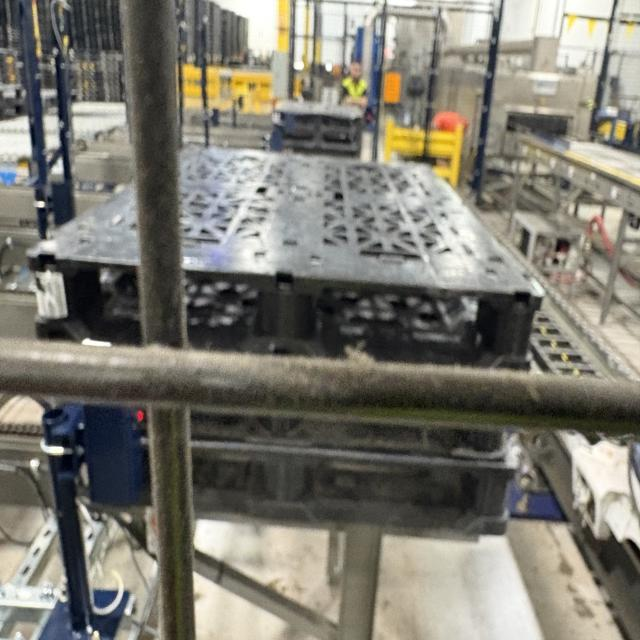igps: (21, 137, 550, 376)
